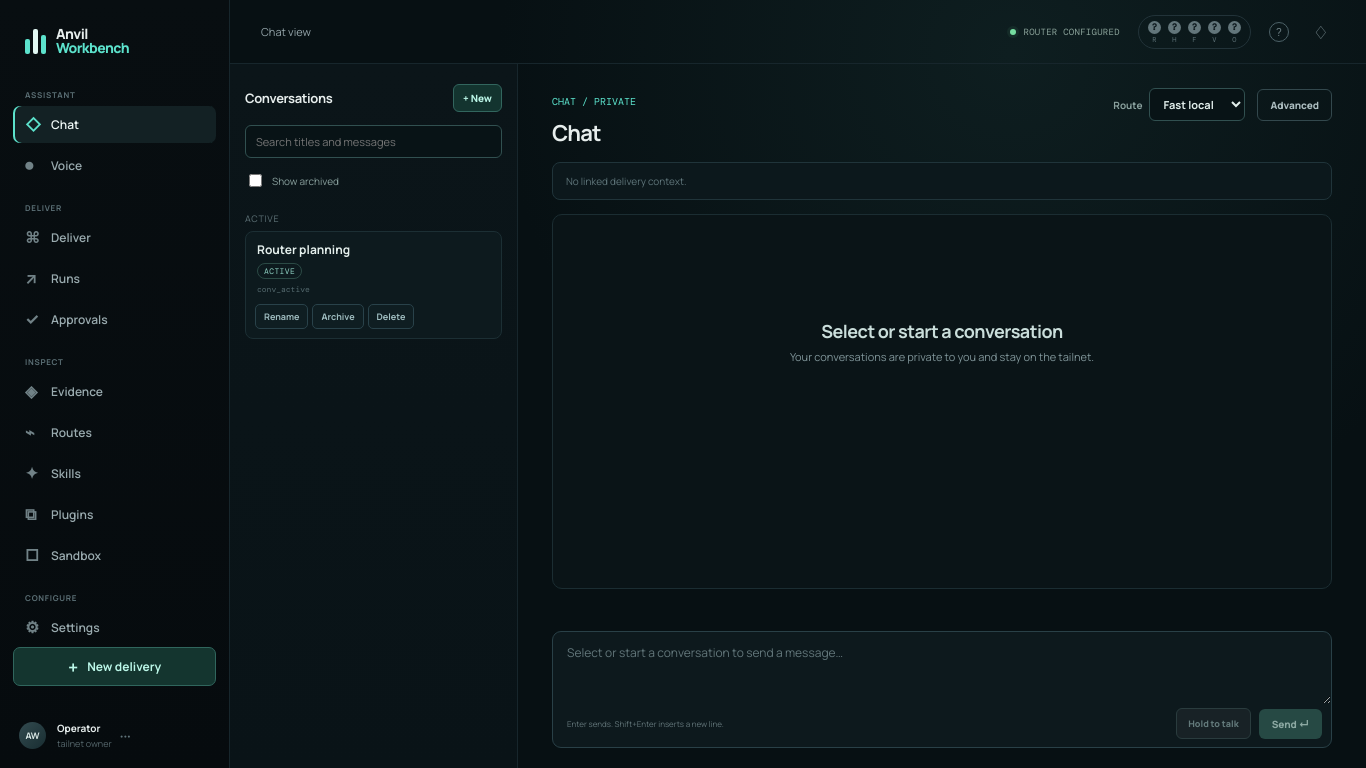
Test: Workbench delivery cockpit › persists a delivery direction for the next local bridge work packet
Click the button "↗ Runs": click(114, 278) [13,260,216,296]
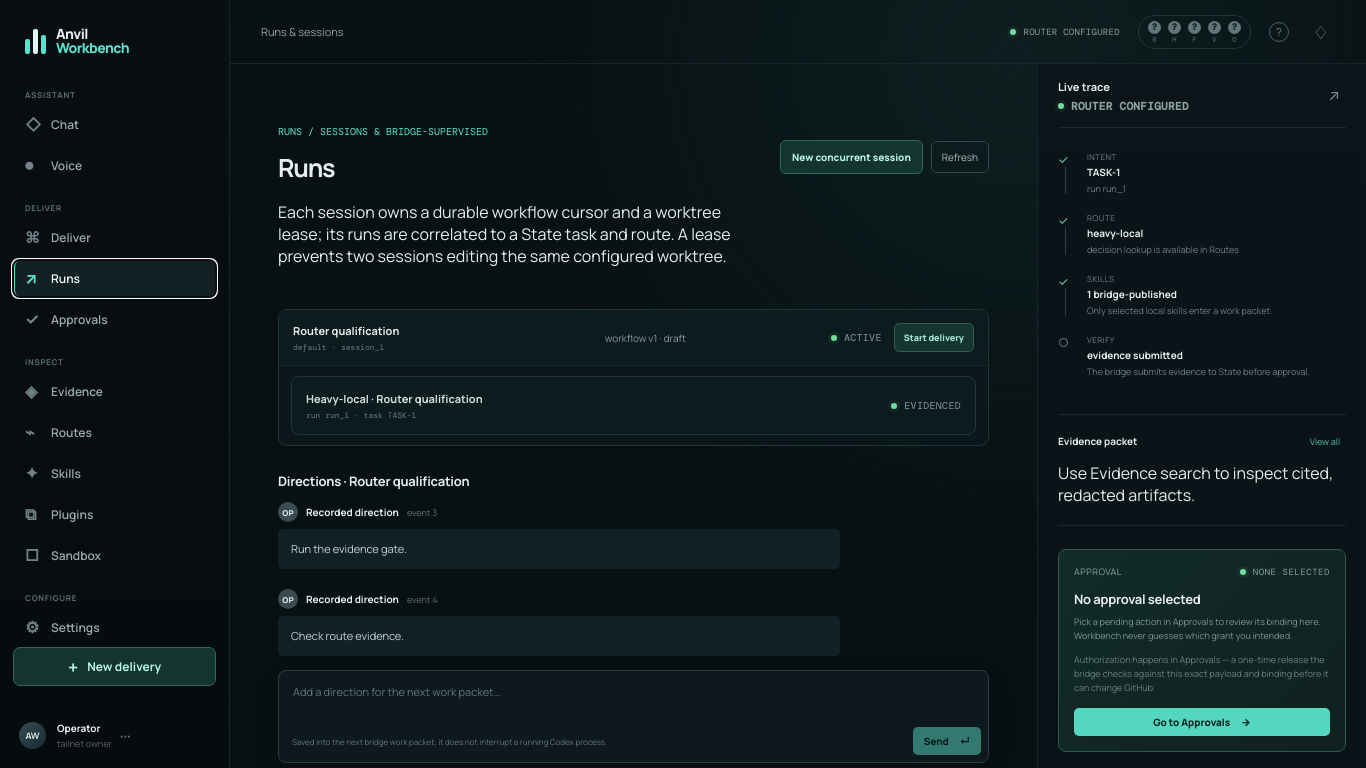
Expected: the heading "Runs" is shown, [278,150,334,185]
In the text box named "Add direction to this delivery": (634, 697) [279,671,988,723], type "Check route evidence."
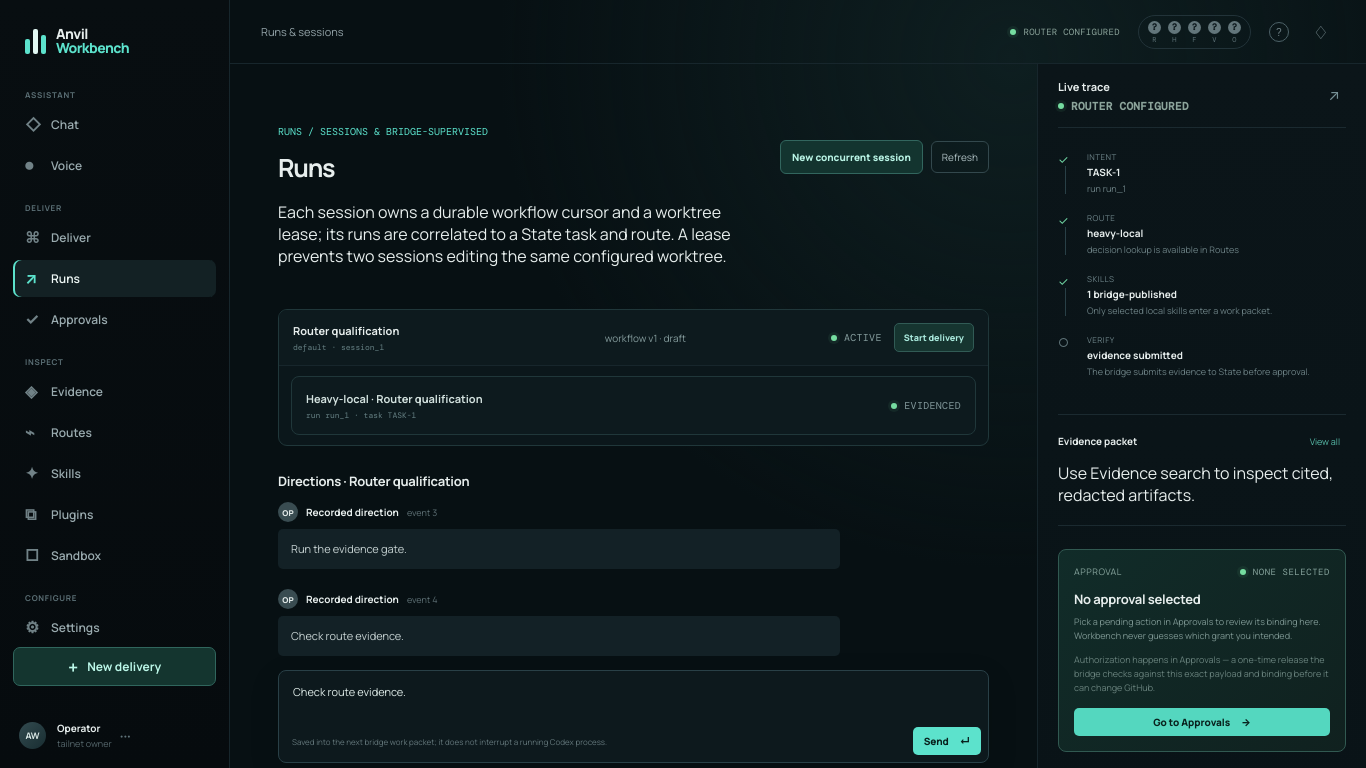
Click the button with aria-label "Send delivery direction": click(947, 741) [913,727,981,755]
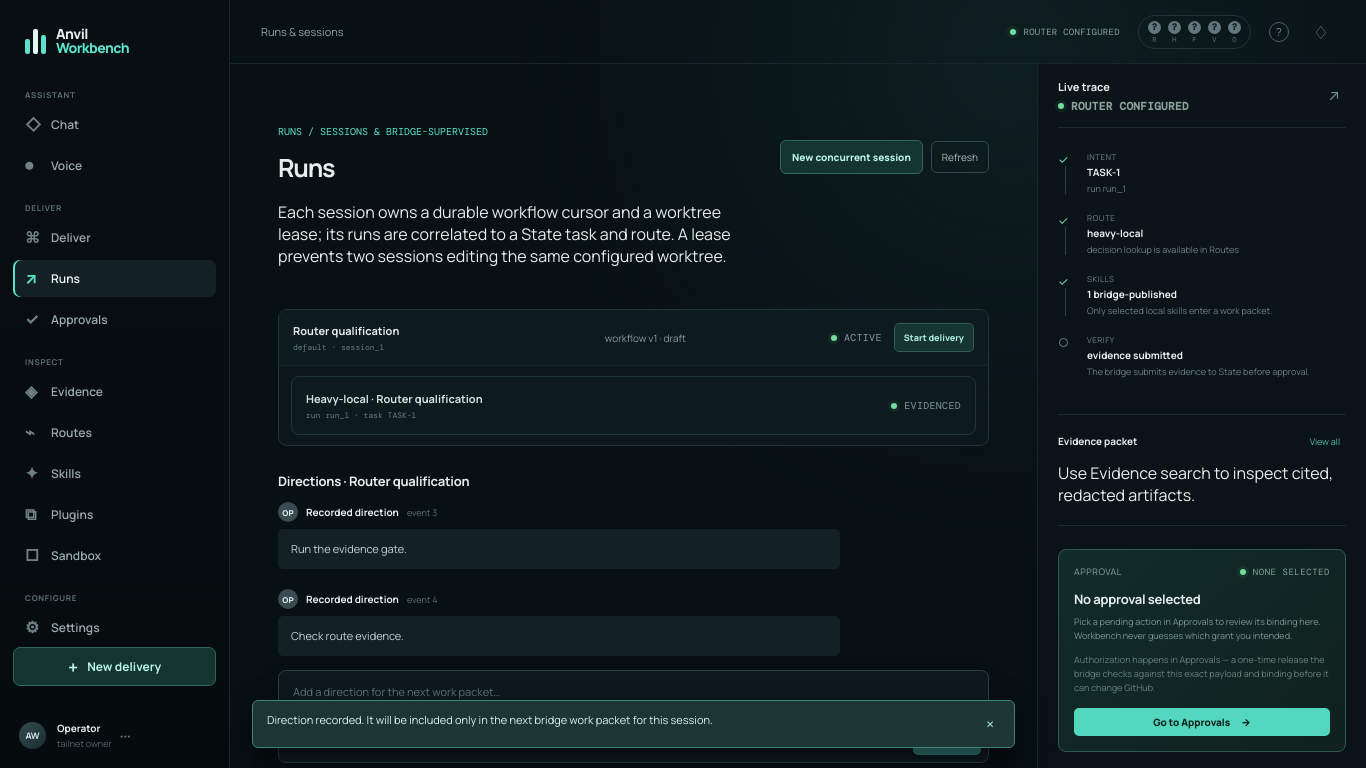
Expected: the text "Check route evidence." is shown, [278,616,840,656]
Expected: the message shows "included only in the next bridge work packet", [267,712,713,727]
